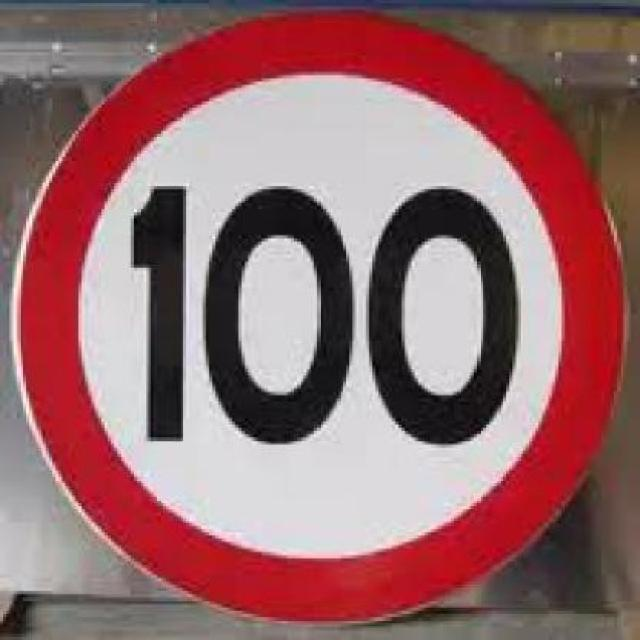forb_speed_over_100: (19, 14, 627, 620)
